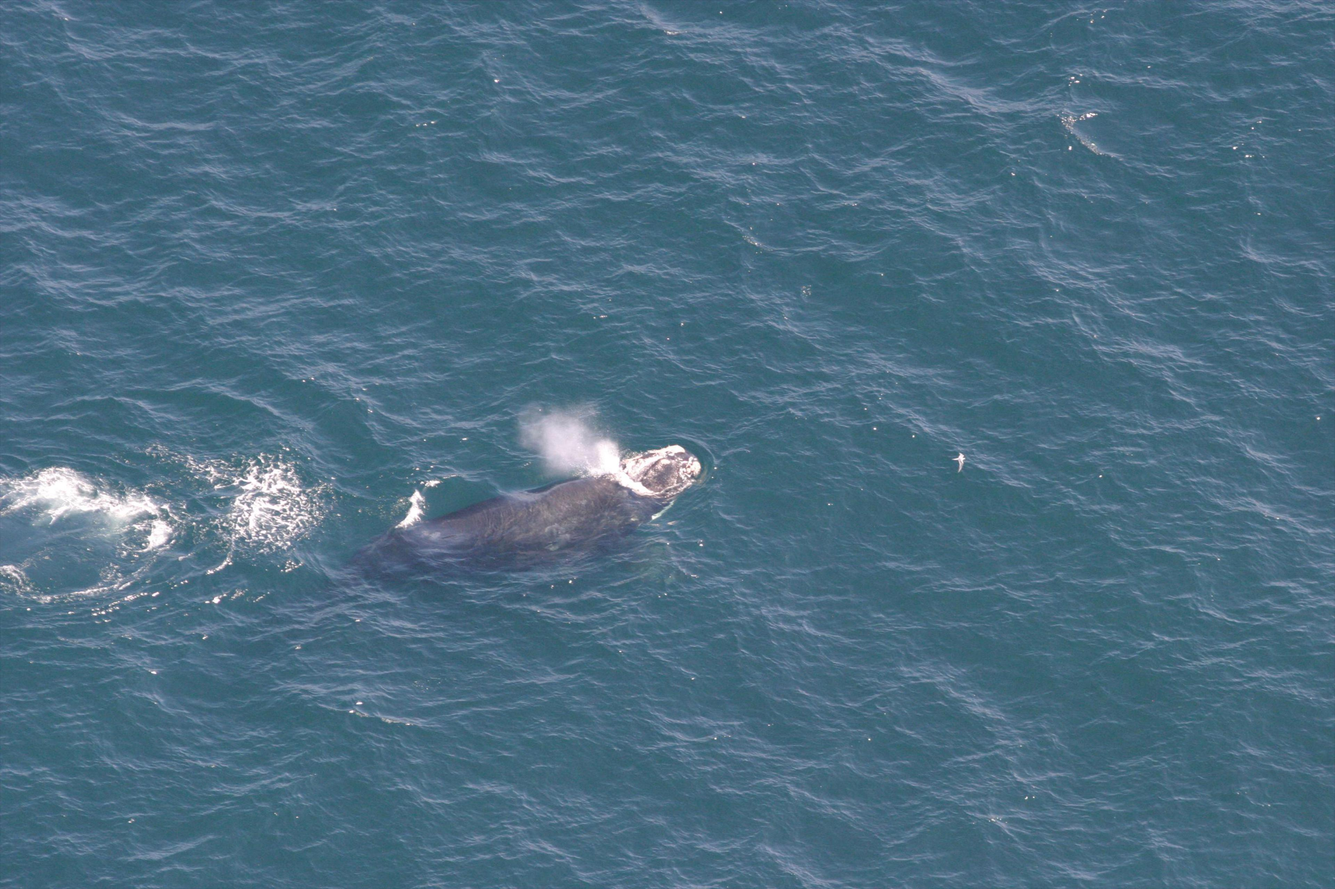whale: (265, 436, 708, 634)
